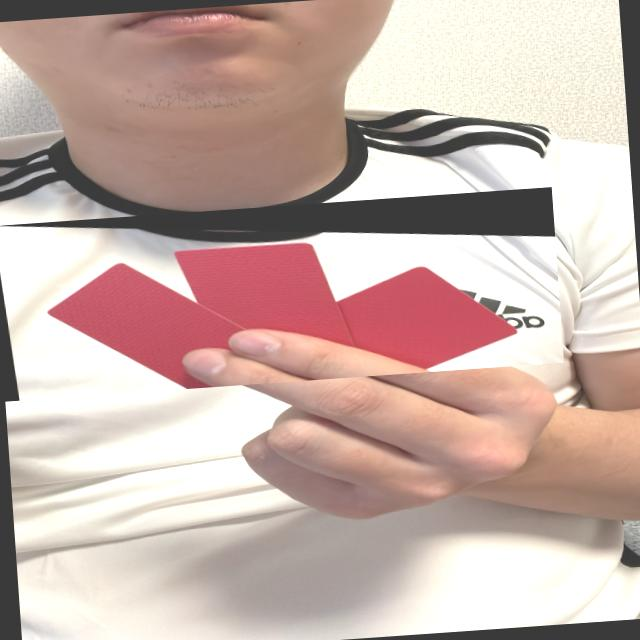hwatoo: (0, 186, 563, 401)
